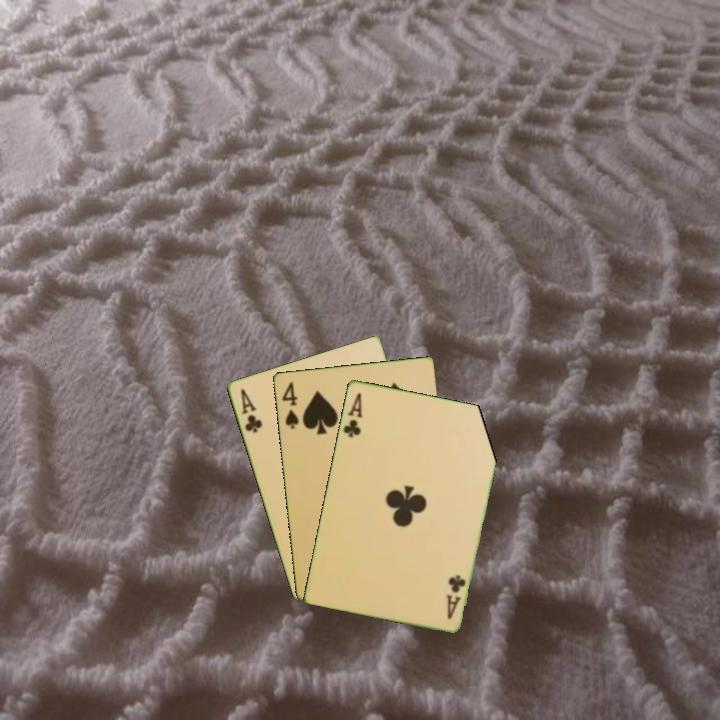4s: (278, 378, 301, 432)
Ac: (237, 385, 265, 436), (339, 389, 366, 440), (442, 571, 468, 622)
